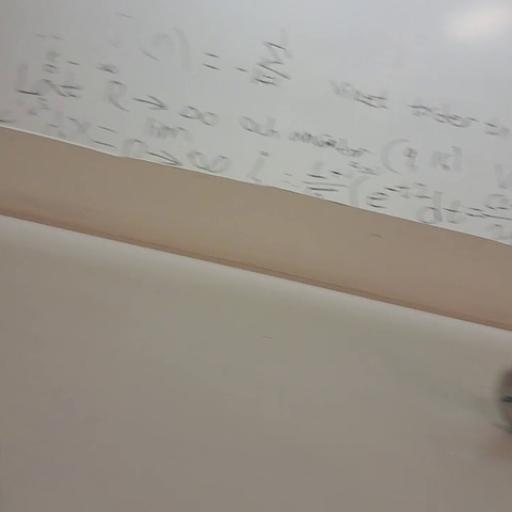alive: (494, 364, 512, 431)
